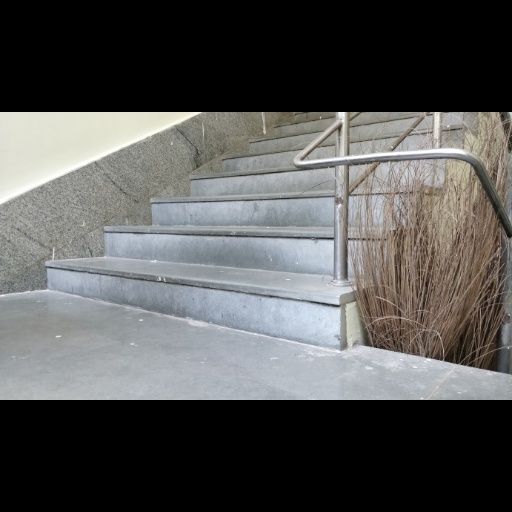Stairs: (48, 115, 362, 349)
